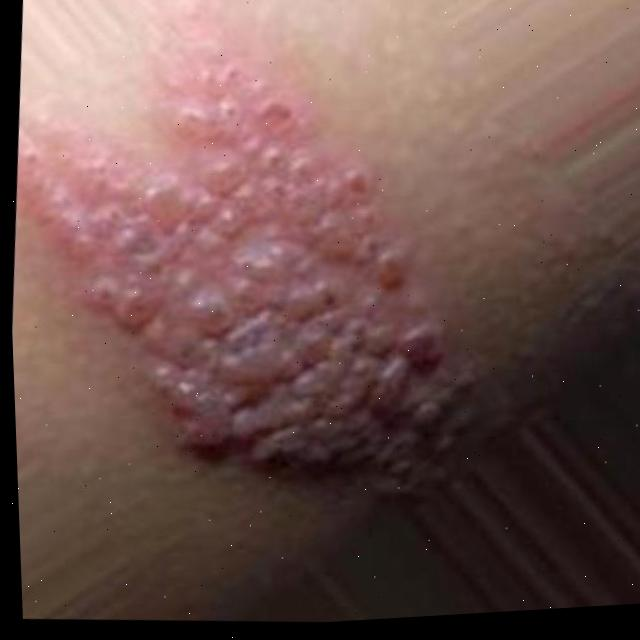Shingles: (86, 30, 443, 504)
